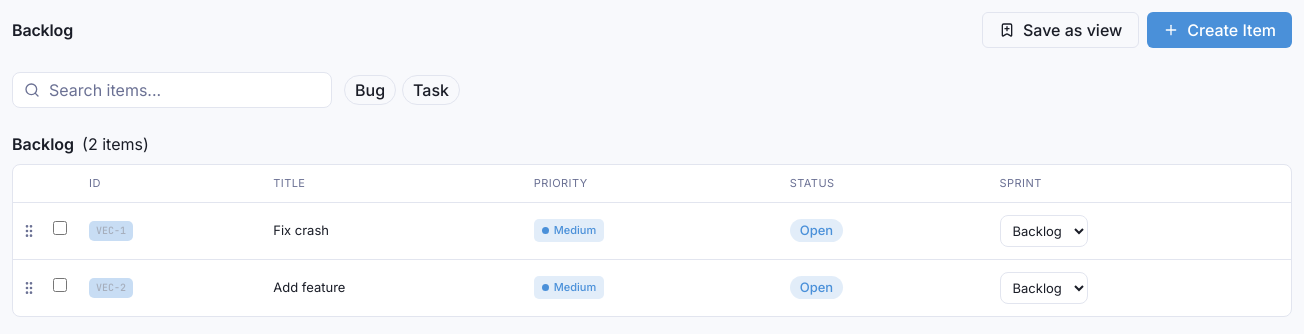
Test case: BacklogPage type filter › shows all items until a type is selected, then narrows to that type
Expected: the link "Fix crash" is shown, [273, 222, 329, 238]
Expected: the link "Add feature" is shown, [273, 279, 345, 295]
Note: The type filter renders a chip per active type.
Click the button "Bug".
click(370, 90)  # box [344, 75, 396, 105]
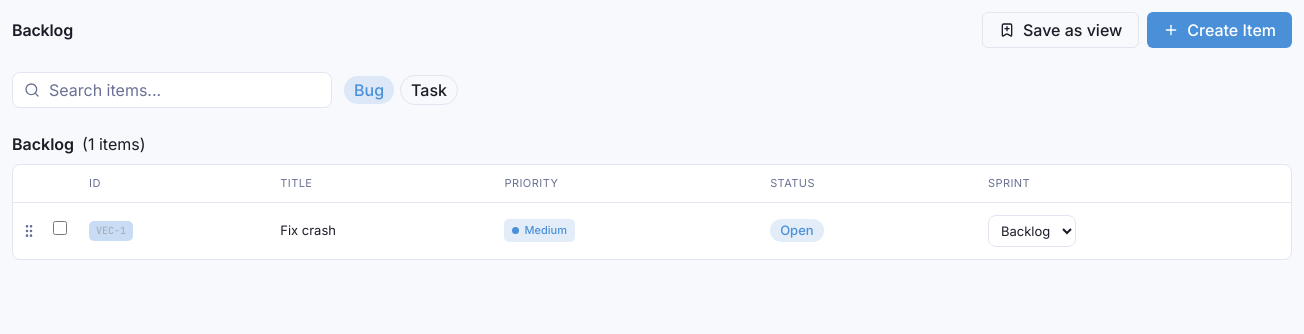
Expected: the link "Fix crash" is shown, [280, 222, 336, 238]
Now the link "Add feature" is gone
